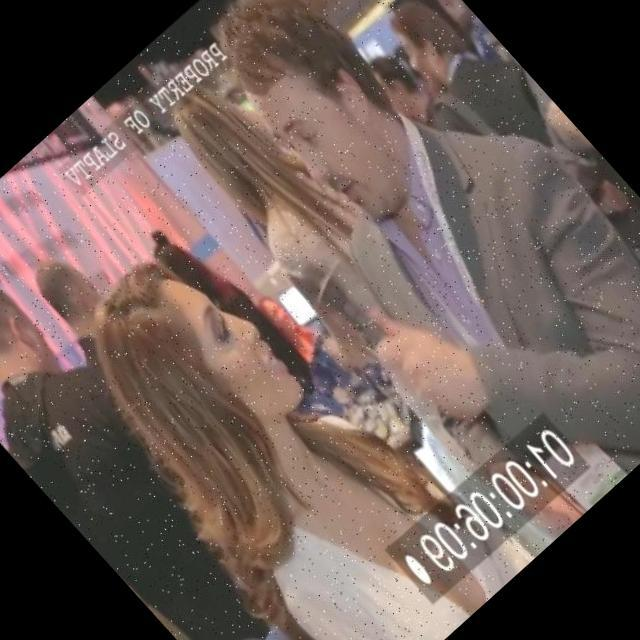person: (135, 0, 640, 549), (45, 219, 514, 640), (0, 250, 296, 640), (147, 61, 390, 316), (377, 0, 552, 156), (11, 237, 147, 378)
